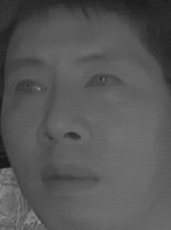eye: (81, 69, 124, 93), (12, 75, 49, 97)
mouth: (36, 158, 106, 199)
